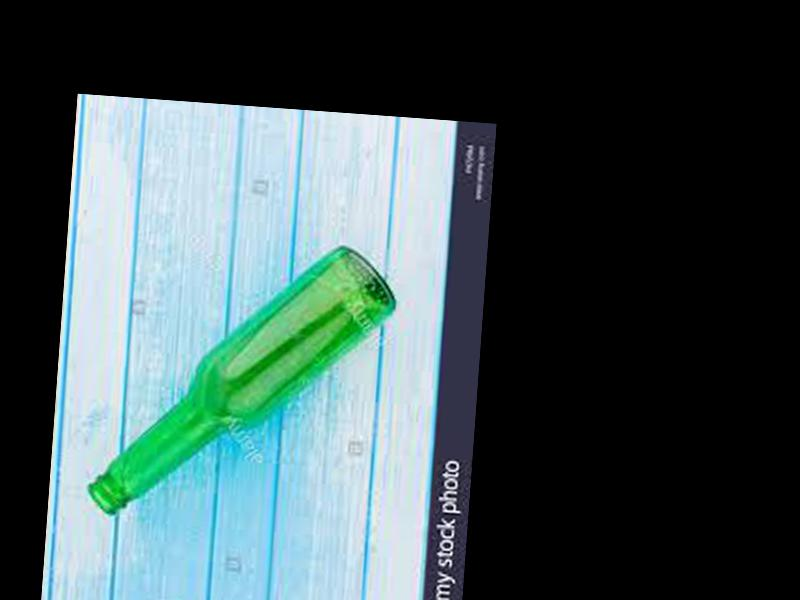Beer: (84, 226, 404, 537)
